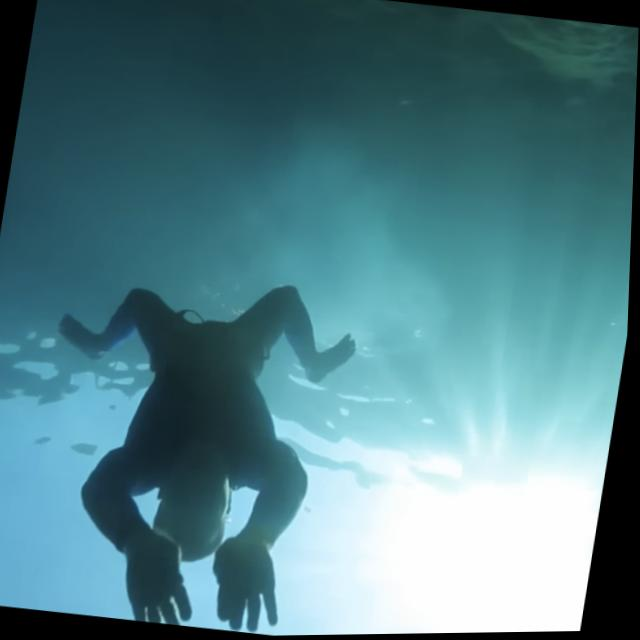human: (10, 248, 387, 640)
